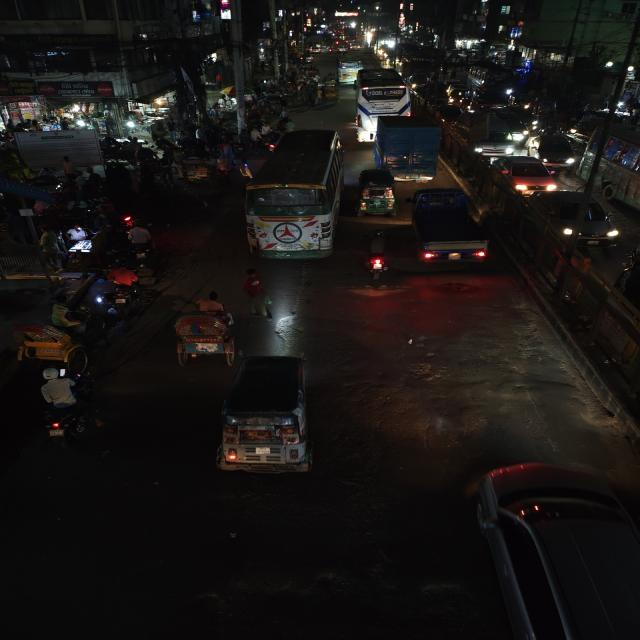bus: (243, 127, 347, 265), (576, 121, 640, 225), (352, 67, 412, 137), (336, 53, 367, 84)
car: (462, 458, 640, 639), (528, 190, 620, 248), (488, 154, 559, 196), (466, 116, 522, 156), (530, 131, 584, 167)
cng: (211, 352, 318, 479), (356, 167, 399, 219)
motorcycle: (35, 368, 98, 446), (101, 262, 157, 314), (362, 230, 392, 280)
pedestrian: (236, 268, 280, 322)
pickup_van: (408, 186, 491, 265)
rickshaw: (9, 302, 110, 374), (166, 292, 240, 366), (171, 147, 213, 187)
truck: (374, 117, 442, 181)
